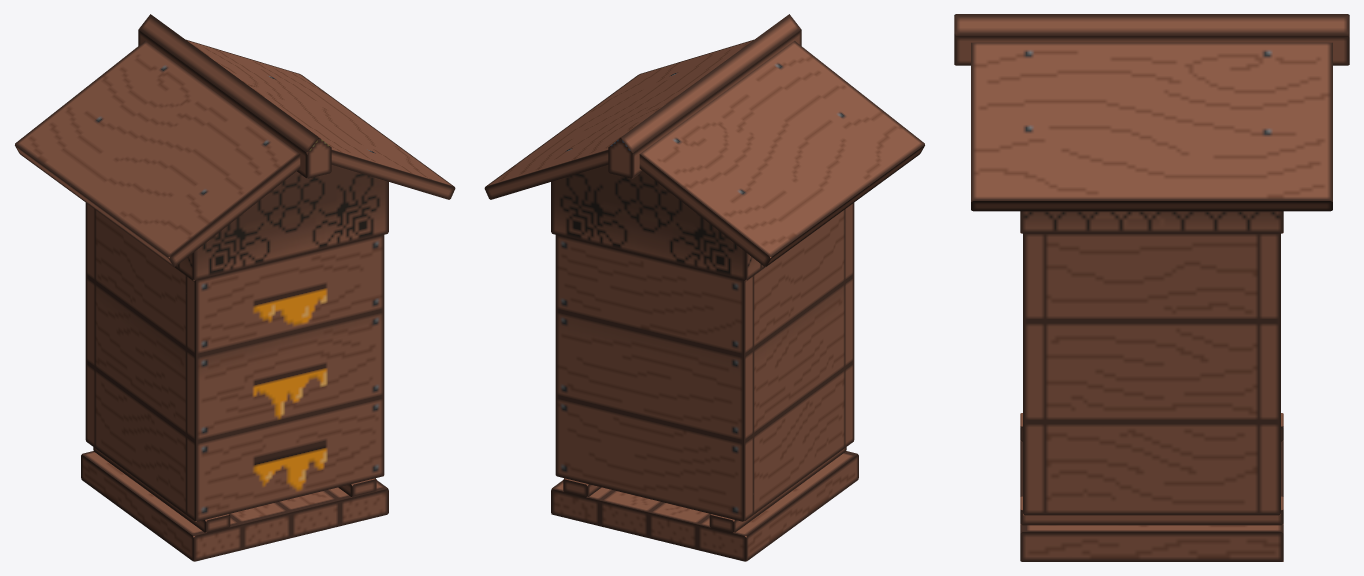
File: beehiveFull.fbx
3 renders of one model, left to right at view 1: azimuth 30°, elevation 25°; view 2: azimuth 150°, elevation 25°; view 3: azimuth 270°, elevation 25°, orthographic. The views are drawn at different scales.
Parts seen in each view (by area): view 1: beehive; view 2: beehive; view 3: beehive.
Boxes of the visible parts, x1,y1,x2,y2 form: beehive: [15, 14, 455, 561]; beehive: [484, 14, 924, 561]; beehive: [954, 14, 1349, 561].
Bounding box in the file's own units: 147 × 206 × 150.
Materials: 1 (1 with a texture image).
